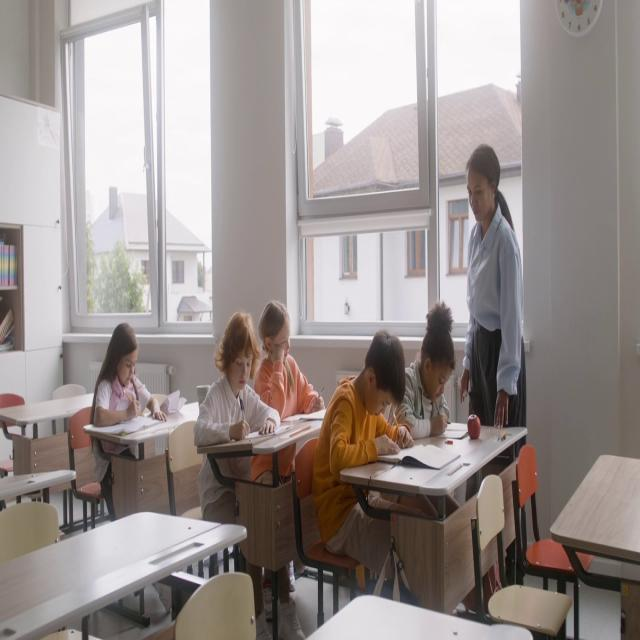listening: (254, 298, 324, 492)
writing: (313, 332, 421, 504), (195, 312, 286, 473), (92, 322, 177, 444), (398, 302, 457, 442)
